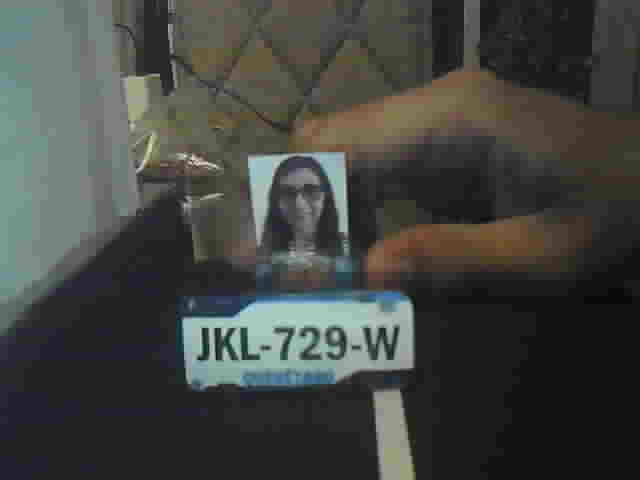PLACA: (178, 288, 417, 392)
ROSTRO: (259, 156, 345, 258)
